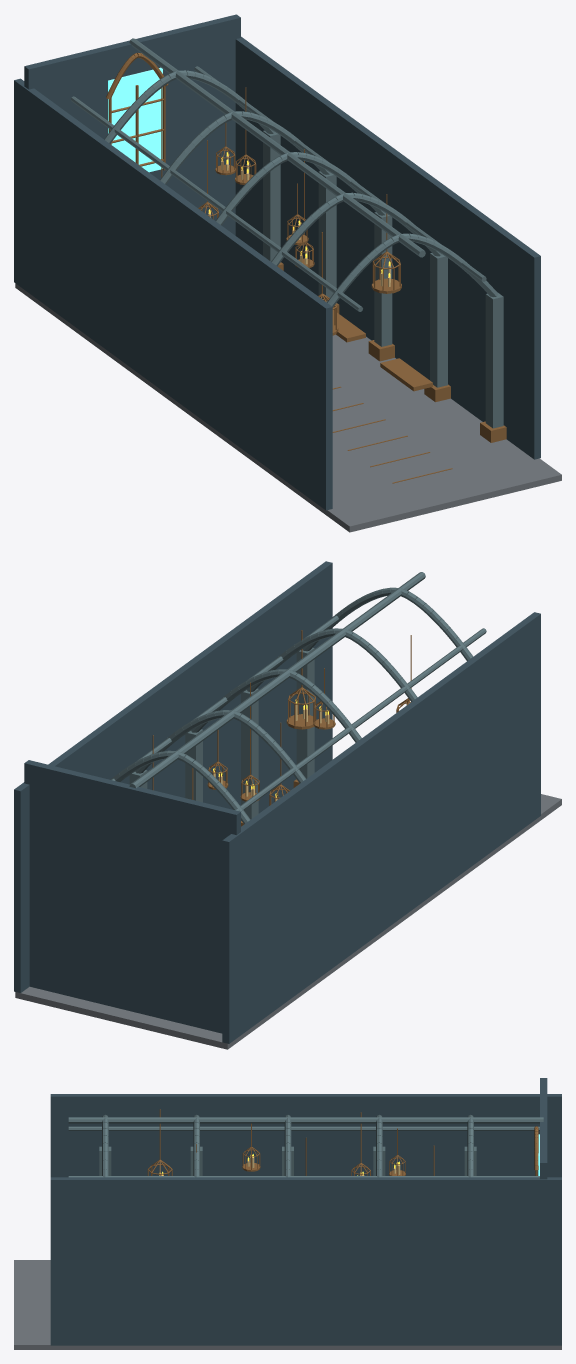
Rendered from grand-hall-blockout.glb.
The picture shows the model from 3 angles, top to bottom: view 1: azimuth 30°, elevation 25°; view 2: azimuth 150°, elevation 25°; view 3: azimuth 270°, elevation 25°; orthographic projection. The views are drawn at different scales.
Visible parts, largest first — view 1: SideWall, SideWall.001, Floor, BackWall, WindowGlass, Ridge, Pillar.001, Pillar.003, LongitudinalRib, Pillar.009, Pillar.007, Pillar.005 (+2 smaller); view 2: SideWall, BackWall, SideWall.001, Floor, Ridge, LongitudinalRib, Pillar.003, Pillar.001, Pillar.005, LongitudinalRib.001; view 3: SideWall.001, SideWall, Floor, Ridge, LongitudinalRib, LongitudinalRib.001, BackWall.
Part boxes in pixels (x1,y1,x2,y2): SideWall: (14, 78, 332, 510); SideWall.001: (235, 36, 540, 459); Floor: (15, 283, 561, 532); BackWall: (24, 14, 240, 235); WindowGlass: (108, 67, 162, 172); Ridge: (129, 38, 425, 257); Pillar.001: (485, 292, 503, 428); Pillar.003: (430, 253, 447, 387); LongitudinalRib: (70, 96, 362, 311); Pillar.009: (263, 130, 280, 262); Pillar.007: (318, 171, 336, 303); Pillar.005: (374, 212, 392, 346); SideWall: (222, 612, 540, 1043); BackWall: (24, 760, 240, 1033); SideWall.001: (14, 561, 332, 992); Floor: (15, 794, 561, 1049); Ridge: (129, 572, 425, 788); LongitudinalRib: (235, 628, 486, 811); Pillar.003: (241, 688, 258, 820); Pillar.001: (296, 647, 314, 779); Pillar.005: (185, 729, 202, 802); LongitudinalRib.001: (111, 615, 338, 780); SideWall.001: (50, 1177, 561, 1345); SideWall: (50, 1094, 561, 1177); Floor: (14, 1260, 561, 1349); Ridge: (68, 1117, 543, 1123); LongitudinalRib: (68, 1126, 539, 1130); LongitudinalRib.001: (68, 1176, 539, 1177); BackWall: (540, 1078, 547, 1179).
Bounding box in the file's own units: 11.15 × 11.48 × 30.
